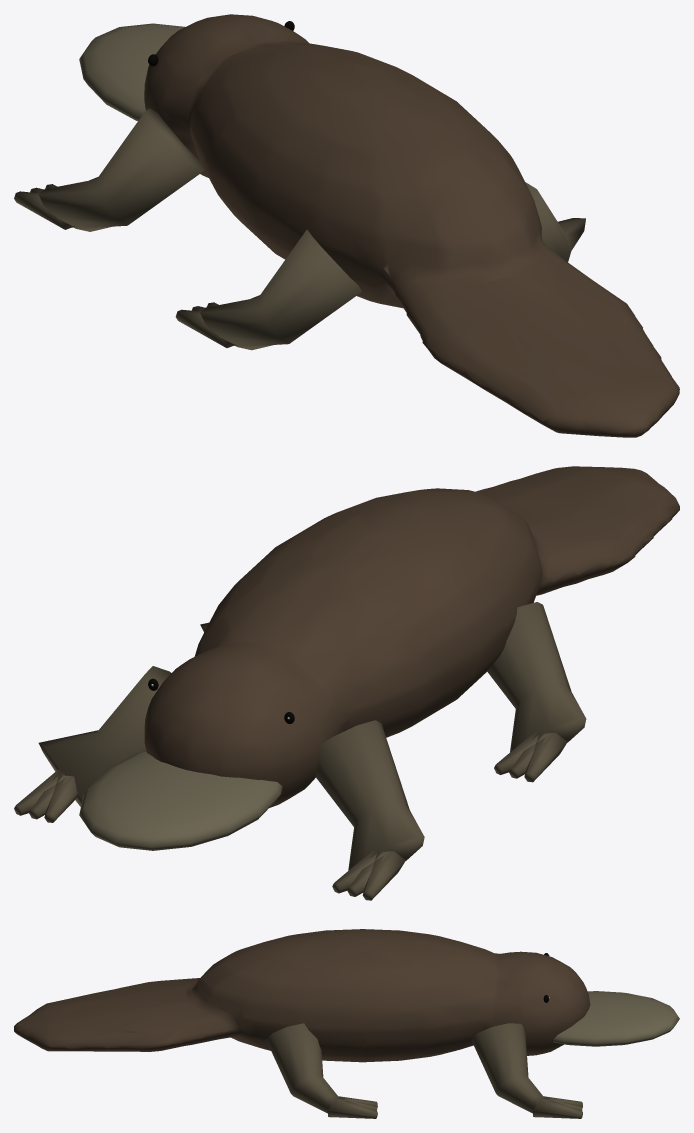
The model's file is animal_platypus.glb.
3 views of the same model, one above another, from view 1: azimuth 30°, elevation 25°; view 2: azimuth 150°, elevation 25°; view 3: azimuth 270°, elevation 25° (orthographic). The views are drawn at different scales.
Parts seen in each view (by area): view 1: Body, LegFL, LegBL, LegBR; view 2: Body, LegFL, LegBL, LegFR; view 3: Body, LegFR, LegBR.
Part boxes in pixels (x1=…): Body: x1=79, y1=14, x2=679, y2=437; LegFL: x1=14, y1=108, x2=204, y2=231; LegBL: x1=175, y1=229, x2=361, y2=350; LegBR: x1=525, y1=182, x2=585, y2=261; Body: x1=79, y1=466, x2=679, y2=850; LegFL: x1=315, y1=720, x2=424, y2=900; LegBL: x1=487, y1=602, x2=586, y2=782; LegFR: x1=14, y1=666, x2=171, y2=822; Body: x1=14, y1=929, x2=679, y2=1062; LegFR: x1=471, y1=1023, x2=582, y2=1118; LegBR: x1=266, y1=1023, x2=377, y2=1118.
Size of the model in its own units: 0.6069 by 0.3222 by 1.43.
